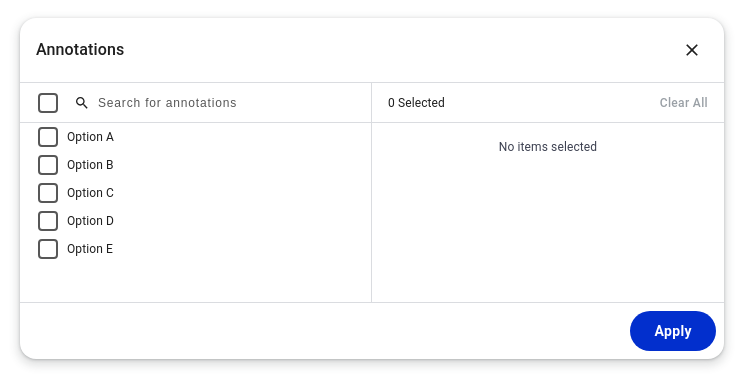
Test: FilterAnnotationsMultiSelect › search functionality › should show "No annotations found" when search has no results
This screenshot has width=745, height=384.
Type "NonExistent" into the field with placeholder "Search for annotations".
click(228, 103); type("NonExistent")  # box [98,94,359,111]
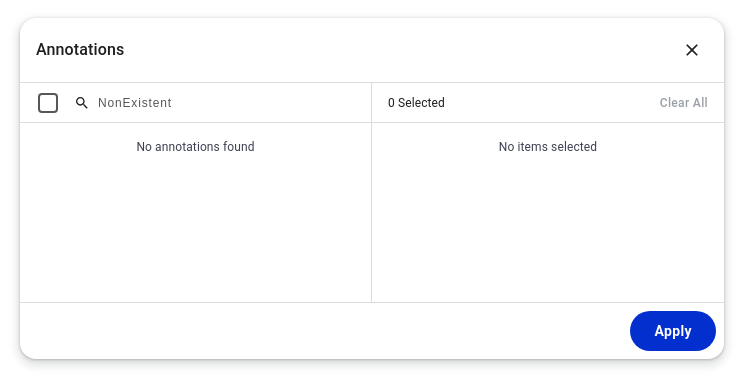
Now the text "No annotations found" is shown, box [136,140,255,154]
